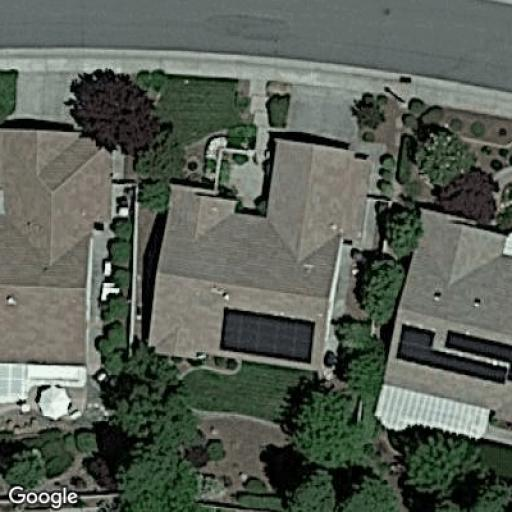solar-panel: (393, 321, 512, 385), (217, 305, 318, 366)
